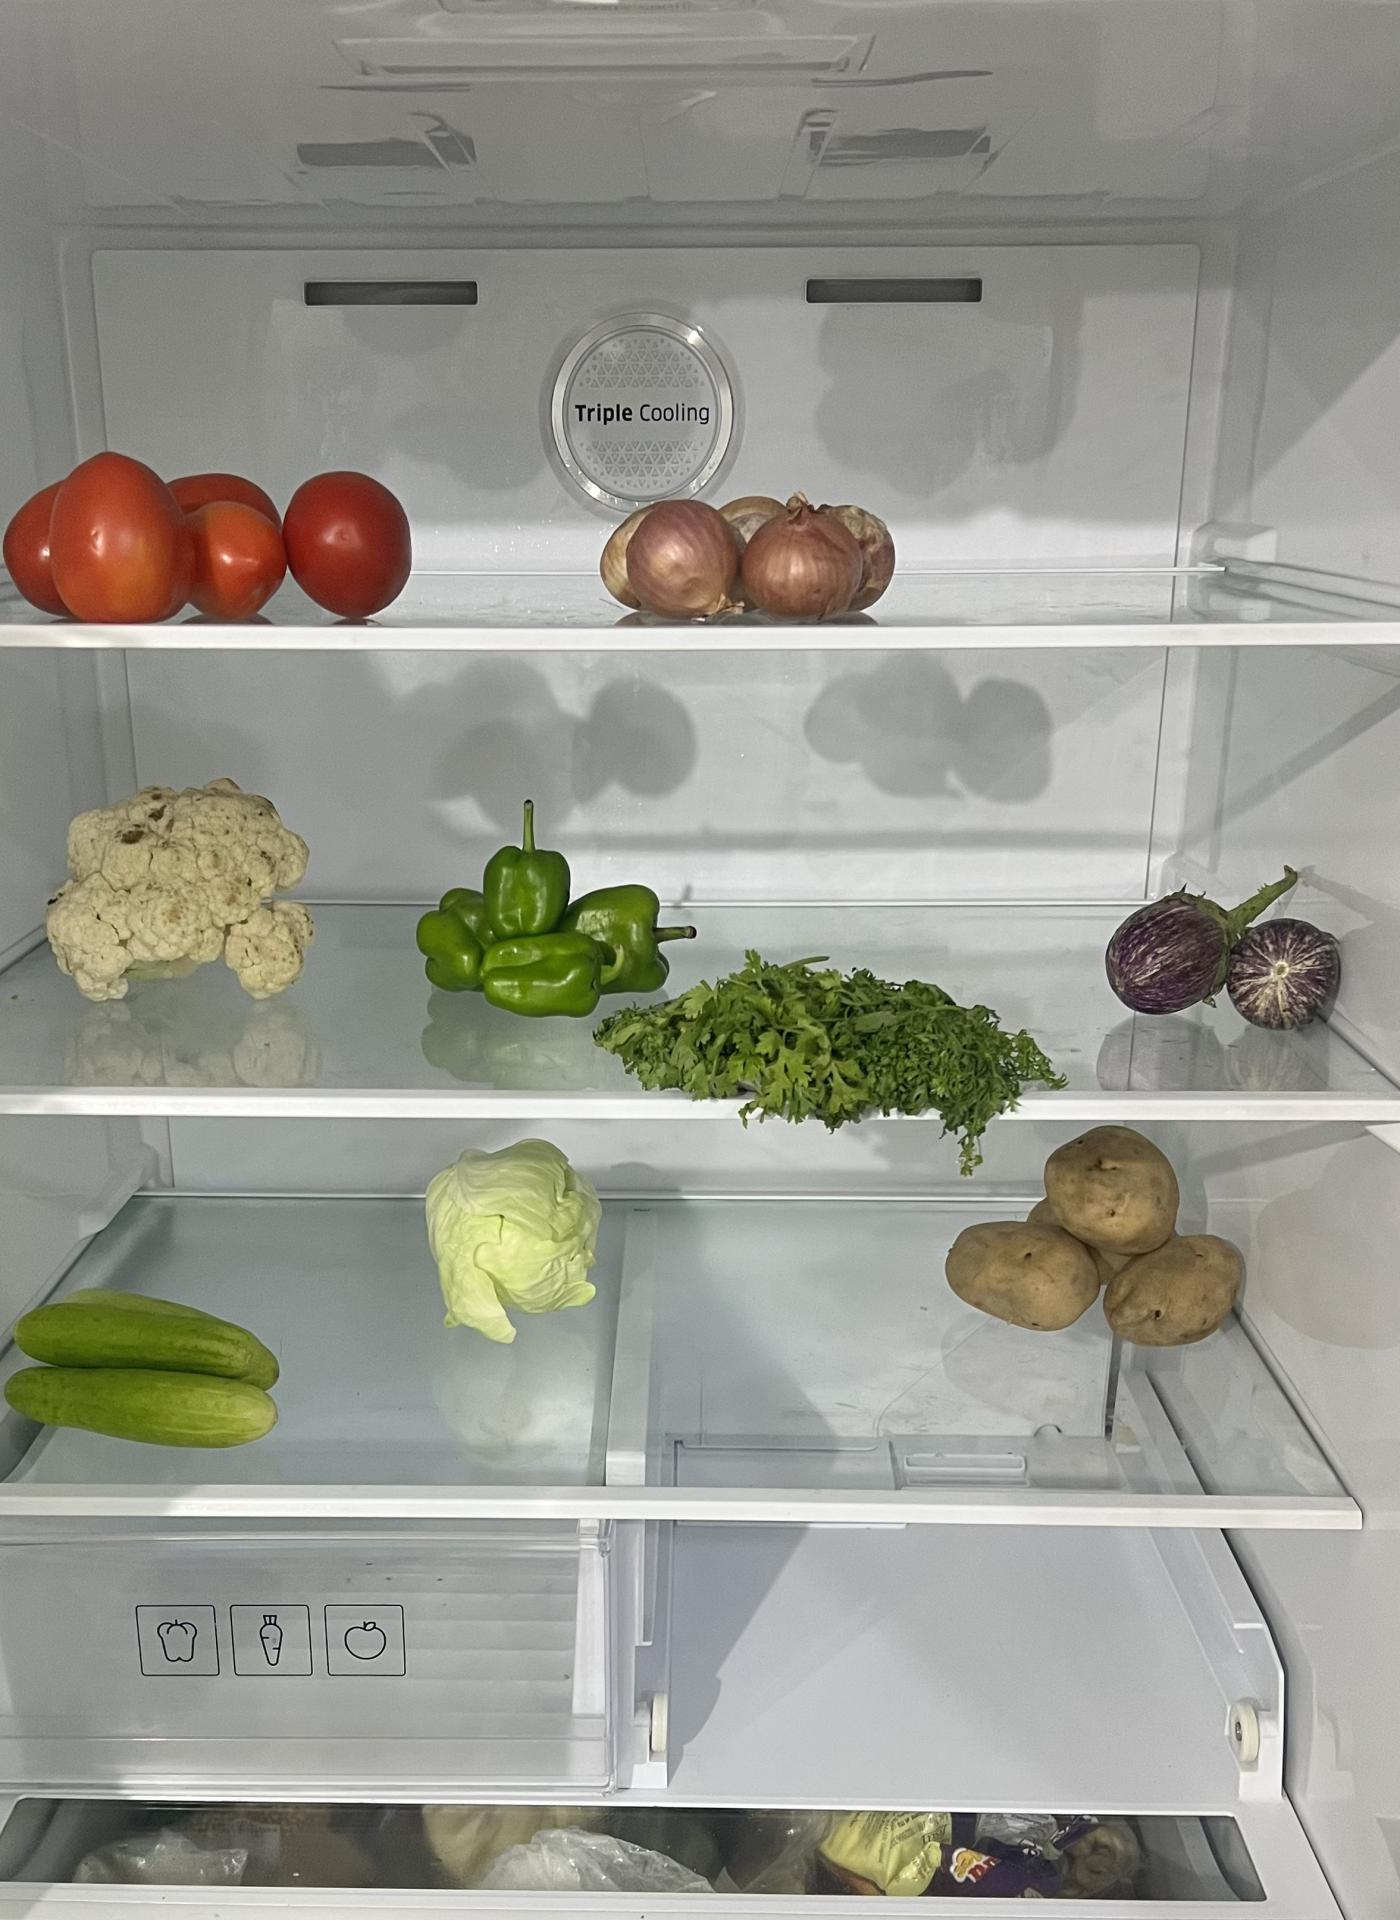brinjal: (1102, 877, 1349, 1039)
cabbage: (423, 1130, 599, 1330)
capsicum: (413, 847, 665, 1023)
cauliflower: (48, 778, 316, 996)
coriander: (601, 951, 1051, 1121)
cucumber: (4, 1294, 294, 1450)
onion: (599, 493, 901, 623)
potato: (941, 1130, 1243, 1349)
tomato: (1, 461, 414, 634)
